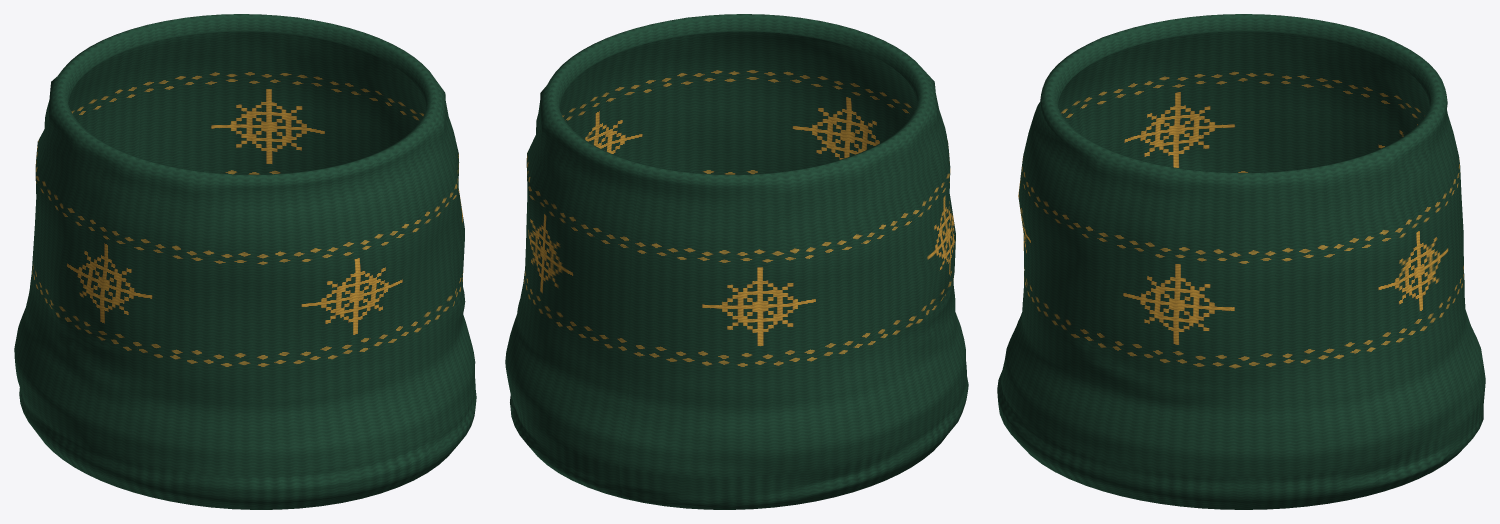
The model's file is sweater.fbx.
The picture shows the model from 3 angles, left to right: view 1: azimuth 30°, elevation 25°; view 2: azimuth 150°, elevation 25°; view 3: azimuth 270°, elevation 25°; orthographic projection.
Visible parts, largest first — view 1: sweater; view 2: sweater; view 3: sweater.
Part boxes in pixels (box(x1,y1,x2,y2)): sweater: box(14, 14, 476, 509); sweater: box(505, 14, 968, 509); sweater: box(997, 14, 1485, 509).
Bounding box in the file's own units: 66.1 × 51.7 × 70.48.
Materials: 1 (1 with a texture image).
